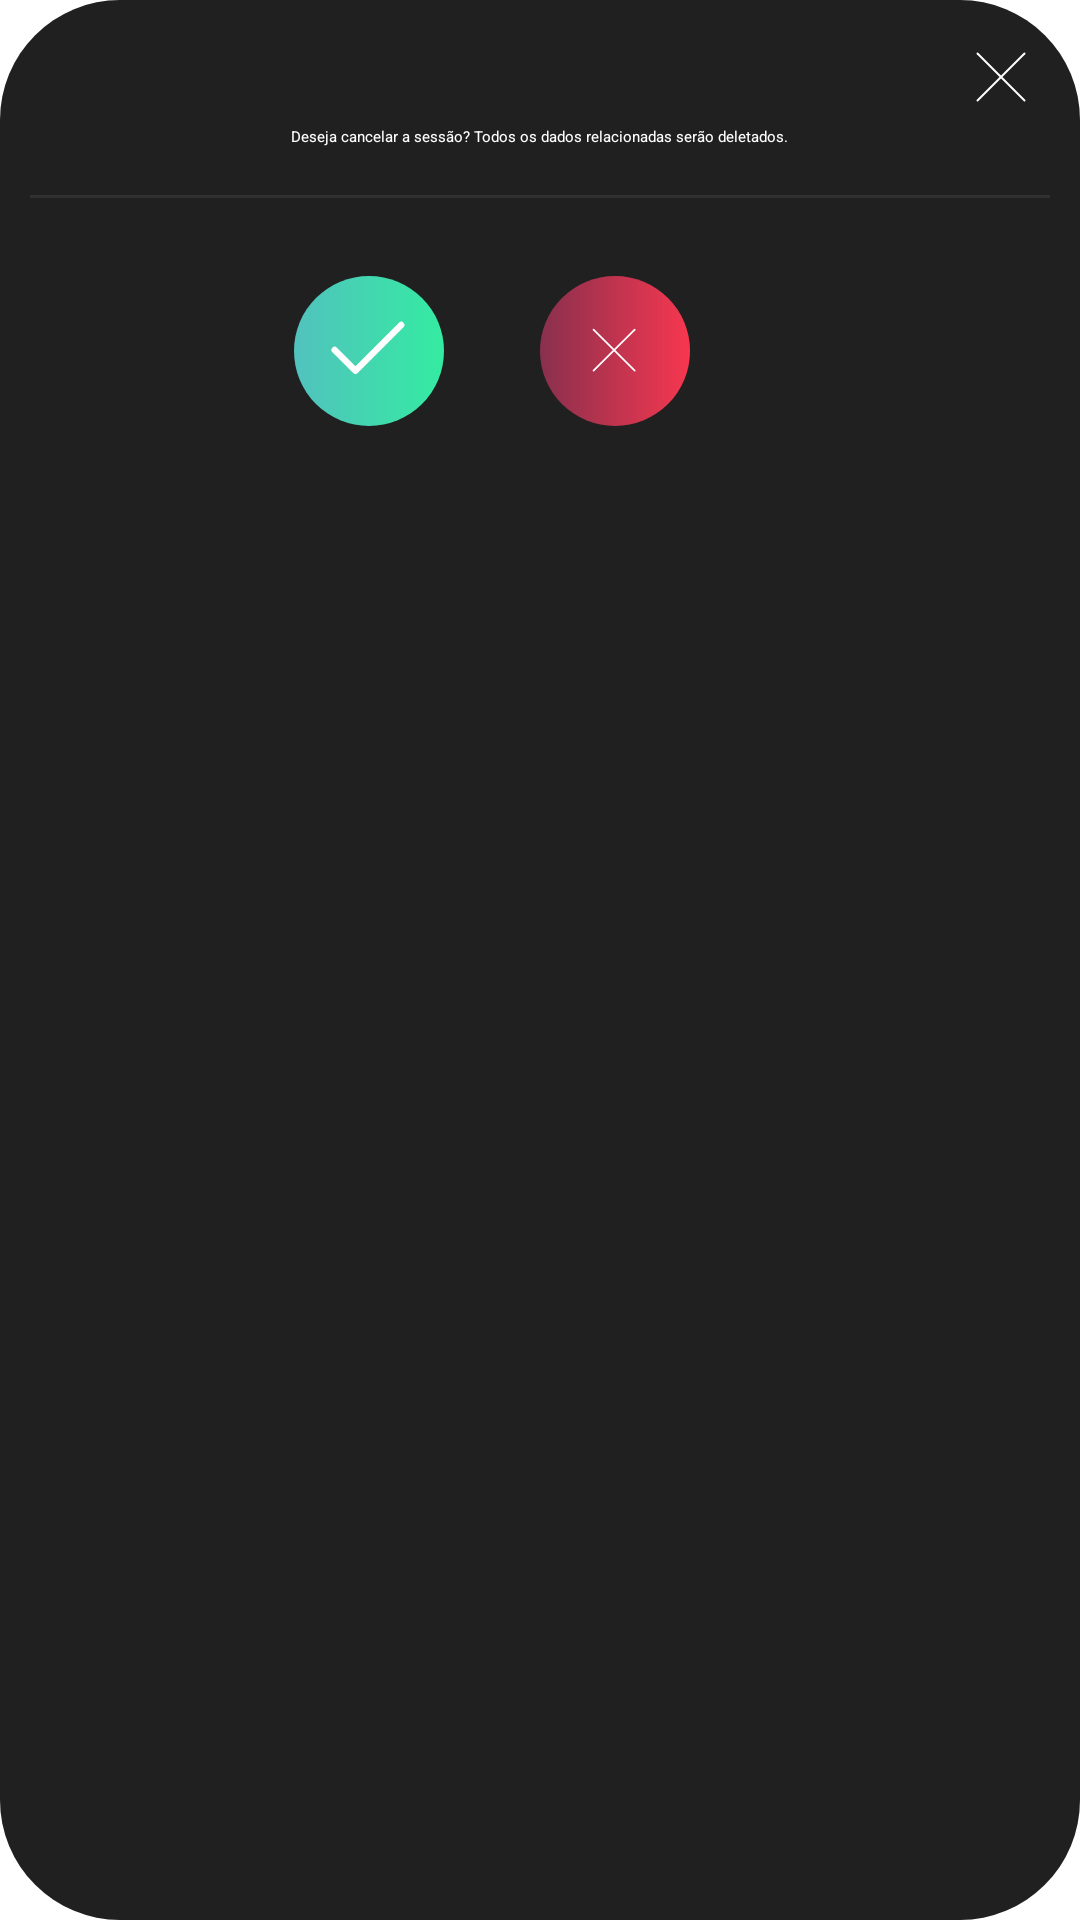

Point at icon controls on the screen. Image size 1080px×1920px, points as [x,y].
not confirm: [615,351]
